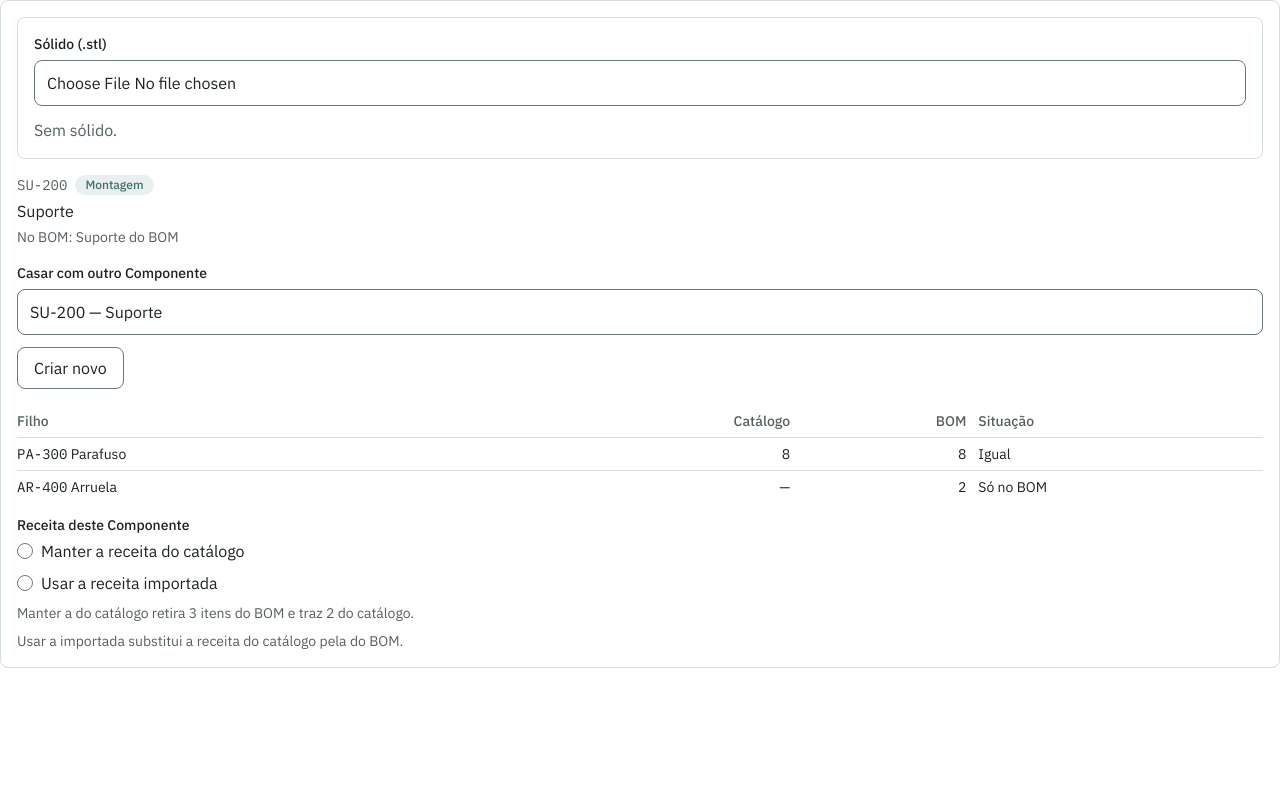
Test: PainelDoComponenteDaImportacao › recusa local do casamento › some na próxima ação: digitar na busca
The width and height of the screenshot is (1280, 800).
Focus the dropdown labelled "Casar com outro Componente" at (640, 312), box [17,289,1263,335]
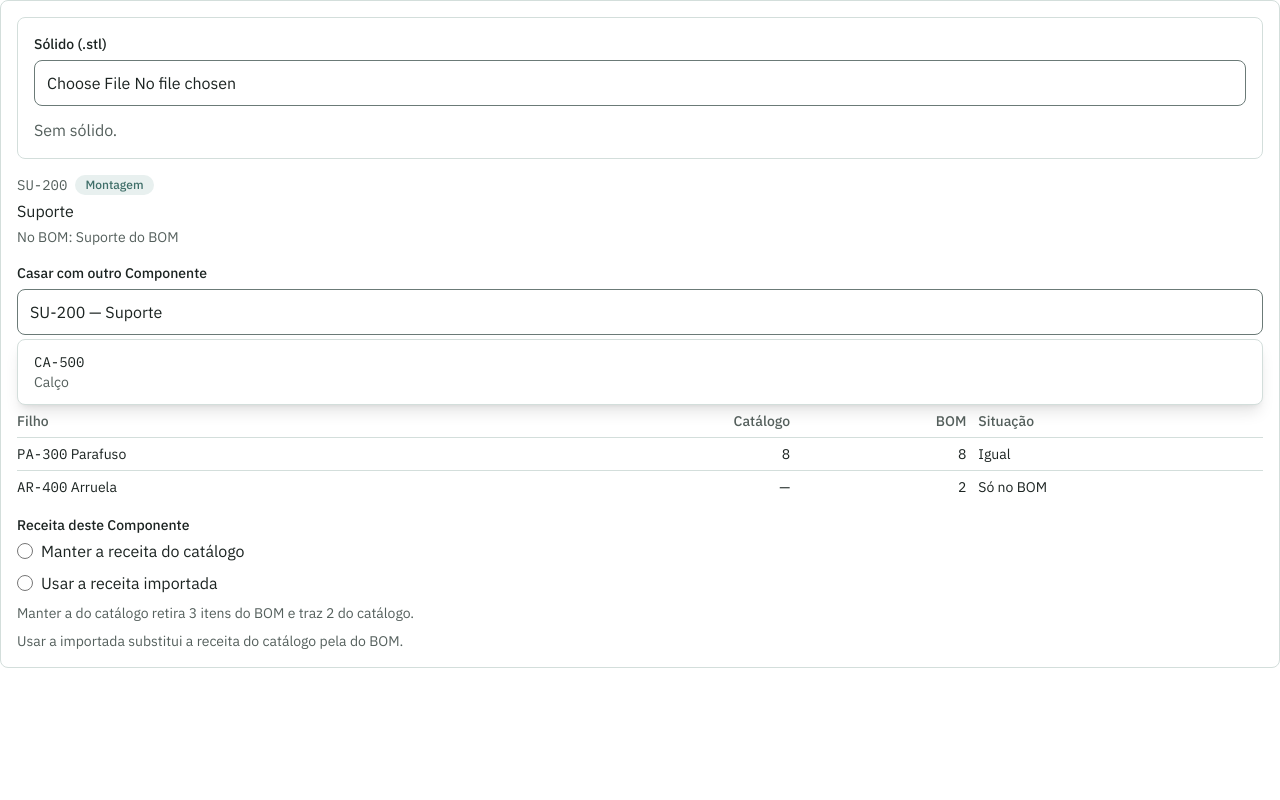
Click the option "CA-500 Calço".
click(59, 372)  # box [34,353,84,391]
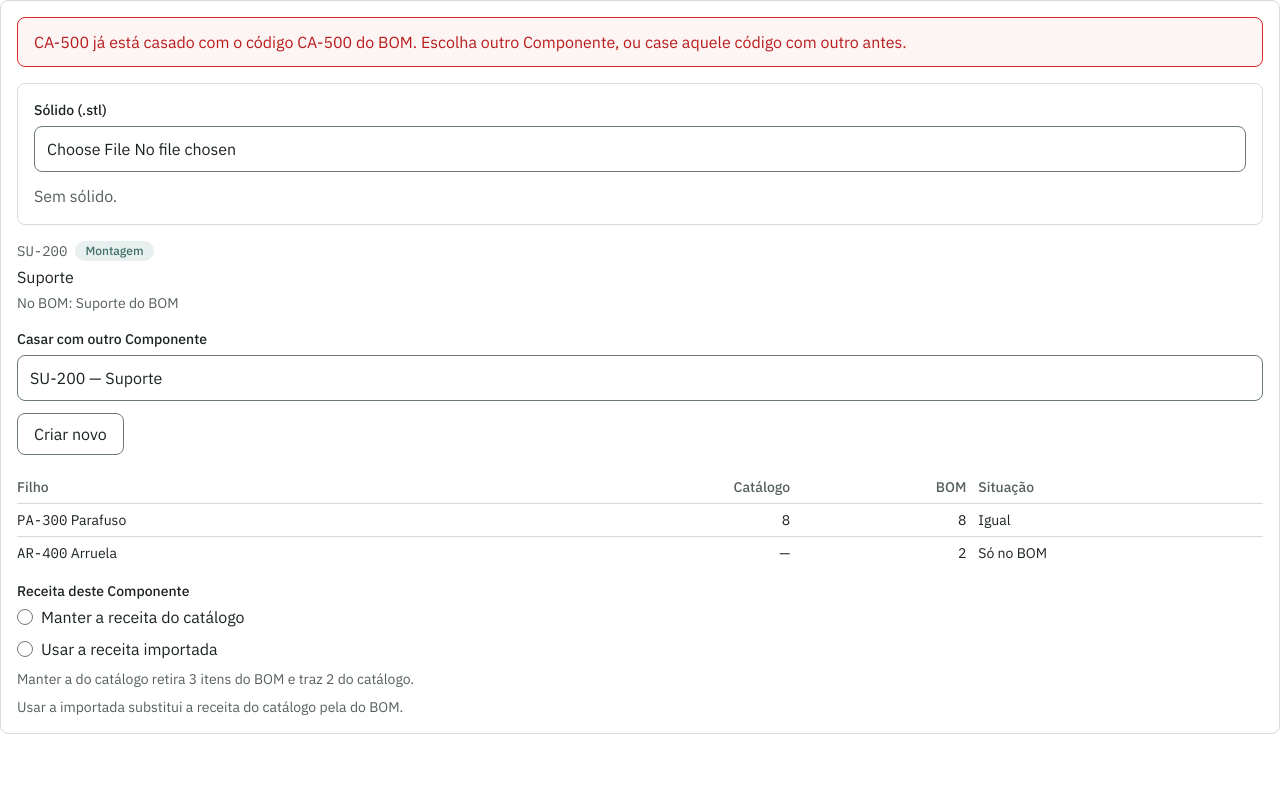
Replace the text in the dropdown labelled "Casar com outro Componente" with "SU" at (640, 378), box [17,355,1263,401]
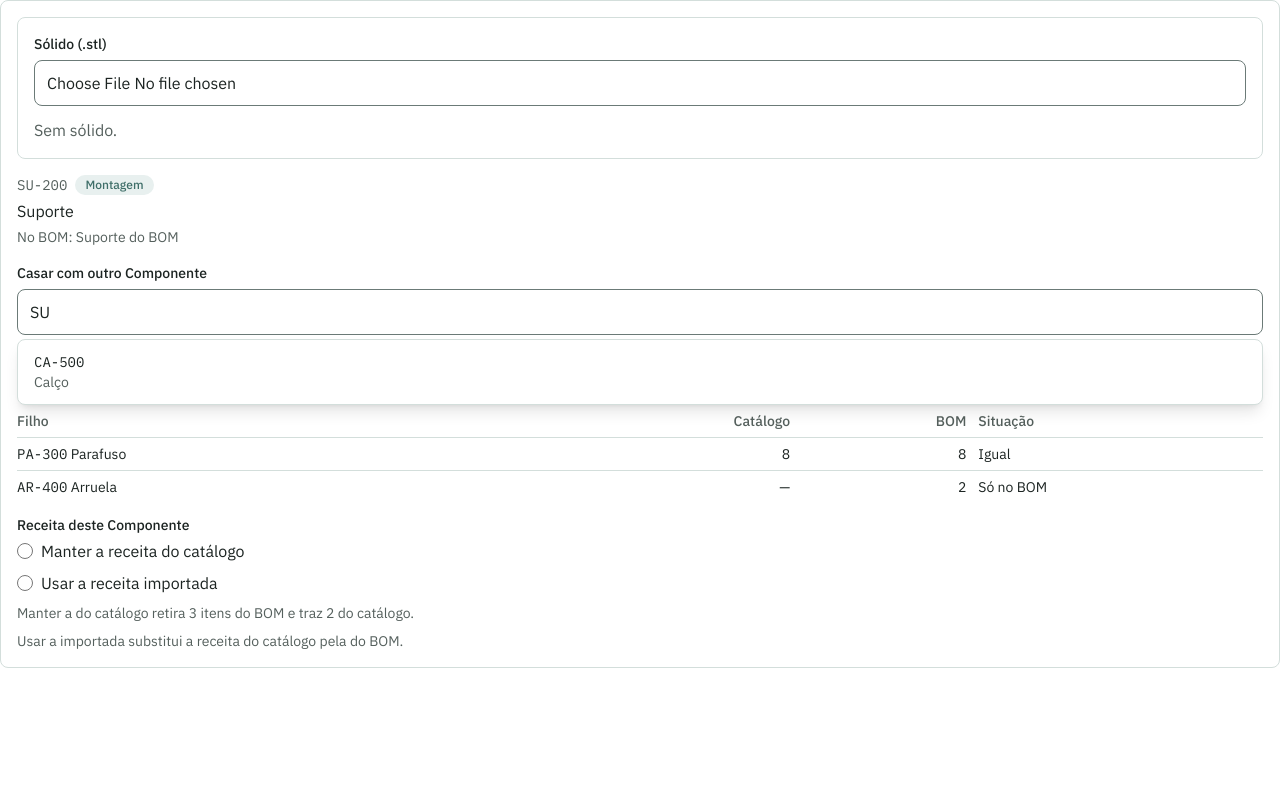
Expected: the message is gone
